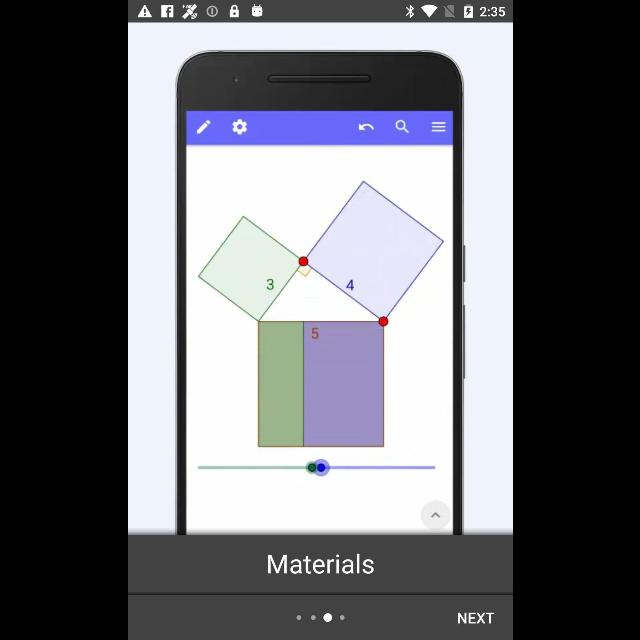image: (173, 49, 464, 534)
pageindicator: (296, 614, 344, 622)
text: (267, 554, 373, 574), (456, 612, 494, 624)
uppertaskbar: (128, 1, 512, 23)
